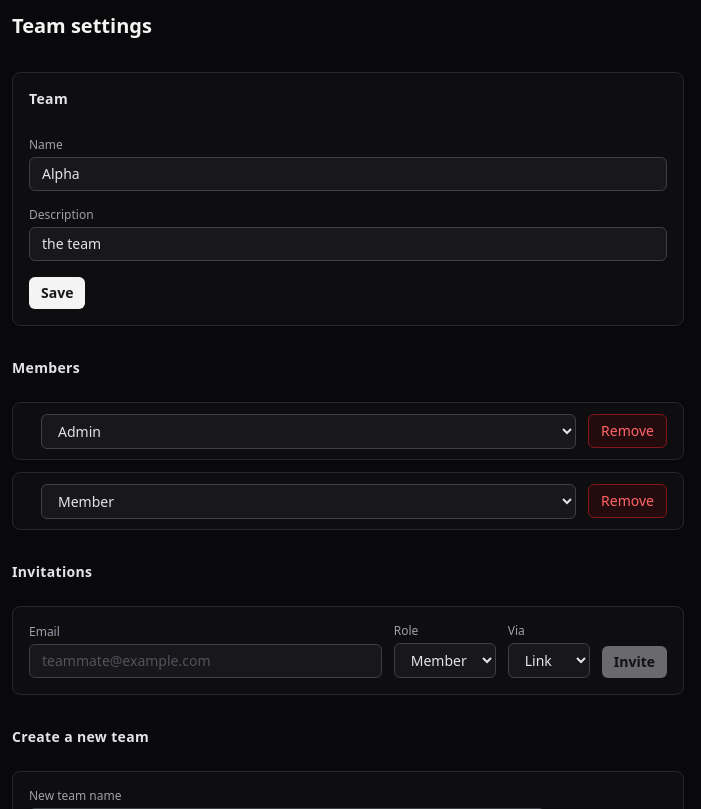
Test: team settings › creates an invitation and reveals its link
This screenshot has width=701, height=809.
Expected: the heading "Invitations" is shown, [12,562,92,581]
In the field with placeholder "teammate@example.com": (205, 661) [29,644,382,678], type "new@b.c"
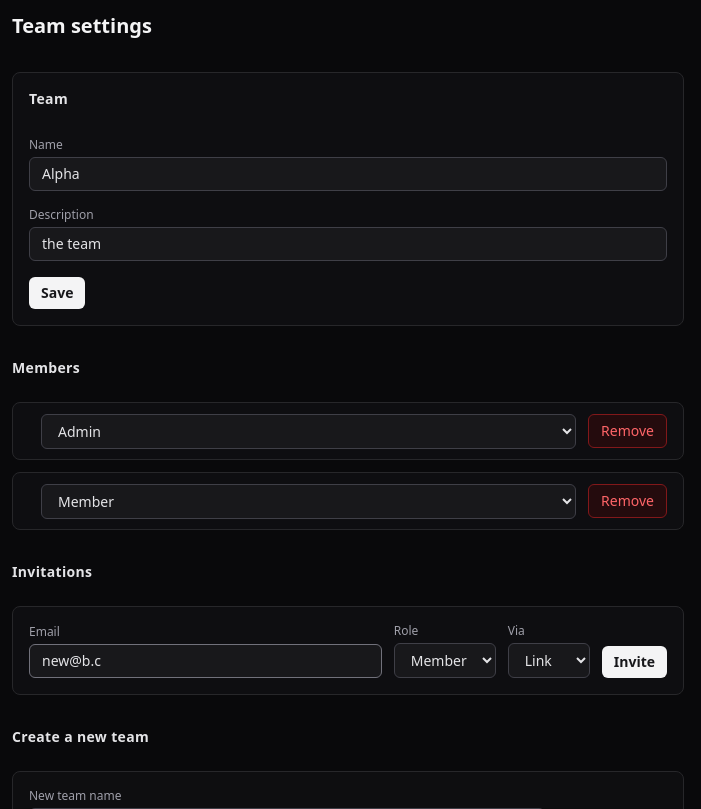
Click the button "Invite": (634, 662) [602,646,667,678]
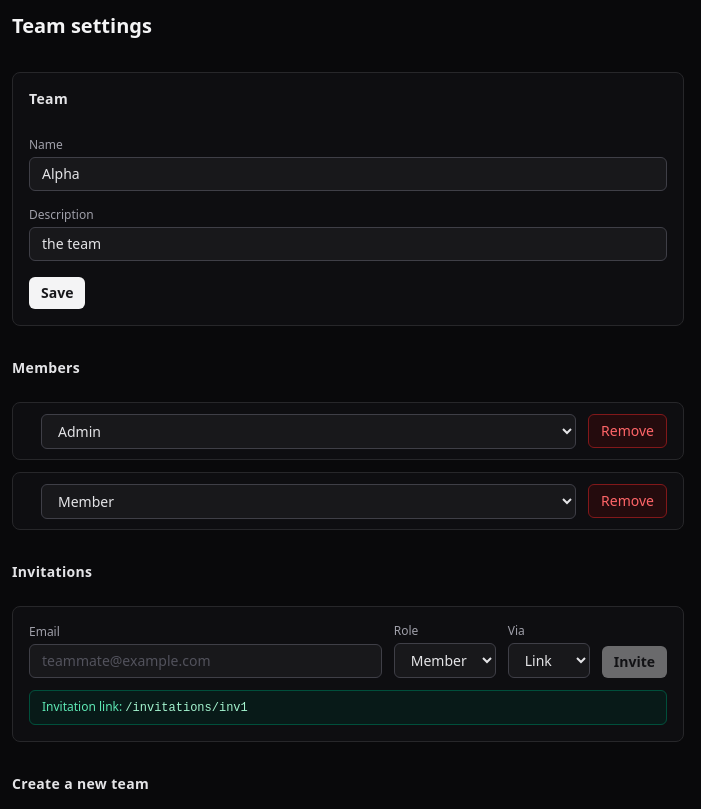
Expected: the text with test id "invite-link" reads "/invitations/inv1", [125,701,248,715]
